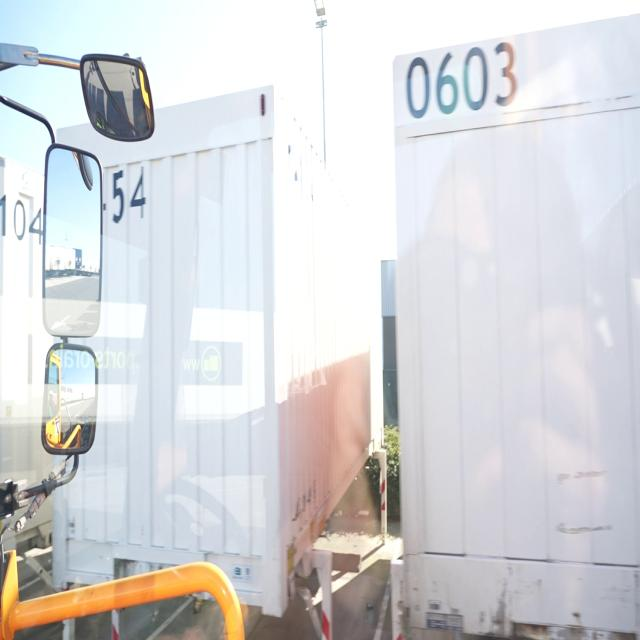Code: (404, 36, 520, 132)
